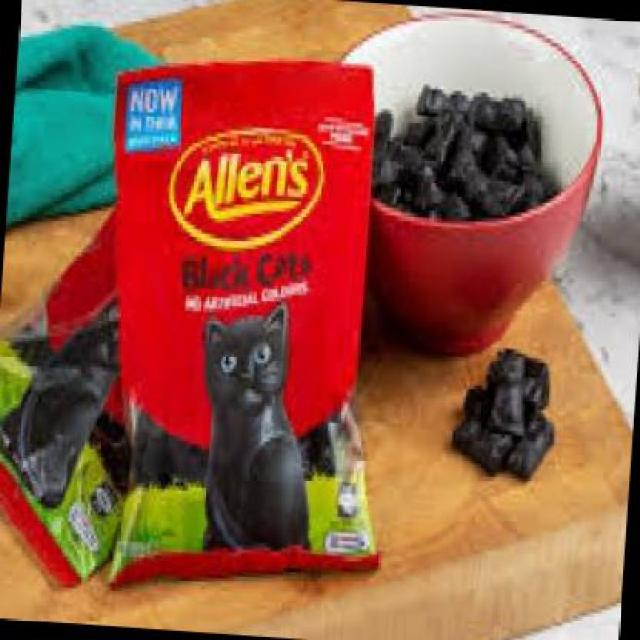animals: (181, 299, 328, 573)
